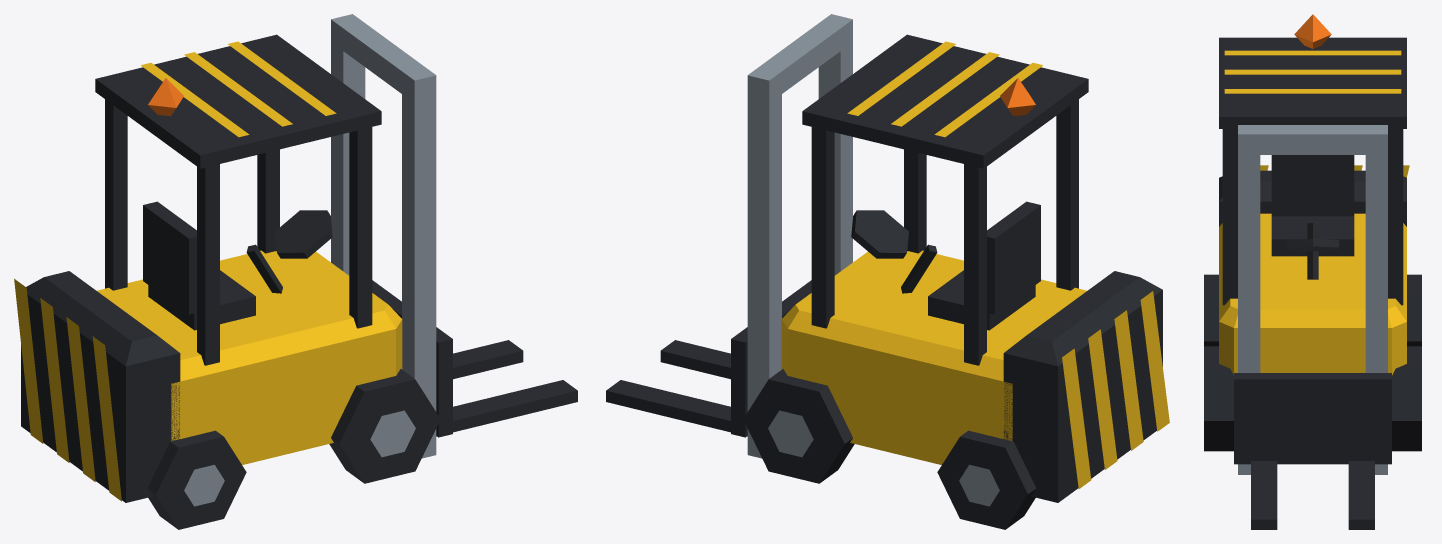
Rendered from forklift.glb.
3 renders of one model, left to right at view 1: azimuth 30°, elevation 25°; view 2: azimuth 150°, elevation 25°; view 3: azimuth 270°, elevation 25°, orthographic. The views are drawn at different scales.
Visible parts, largest first — view 1: forklift; view 2: forklift; view 3: forklift.
Boxes of the visible parts, left/top/right/bottom form: forklift: left=14, top=14, right=577, bottom=529; forklift: left=606, top=14, right=1169, bottom=529; forklift: left=1204, top=14, right=1421, bottom=529.
Size of the model in its own units: 0.262 by 0.212 by 0.122.
